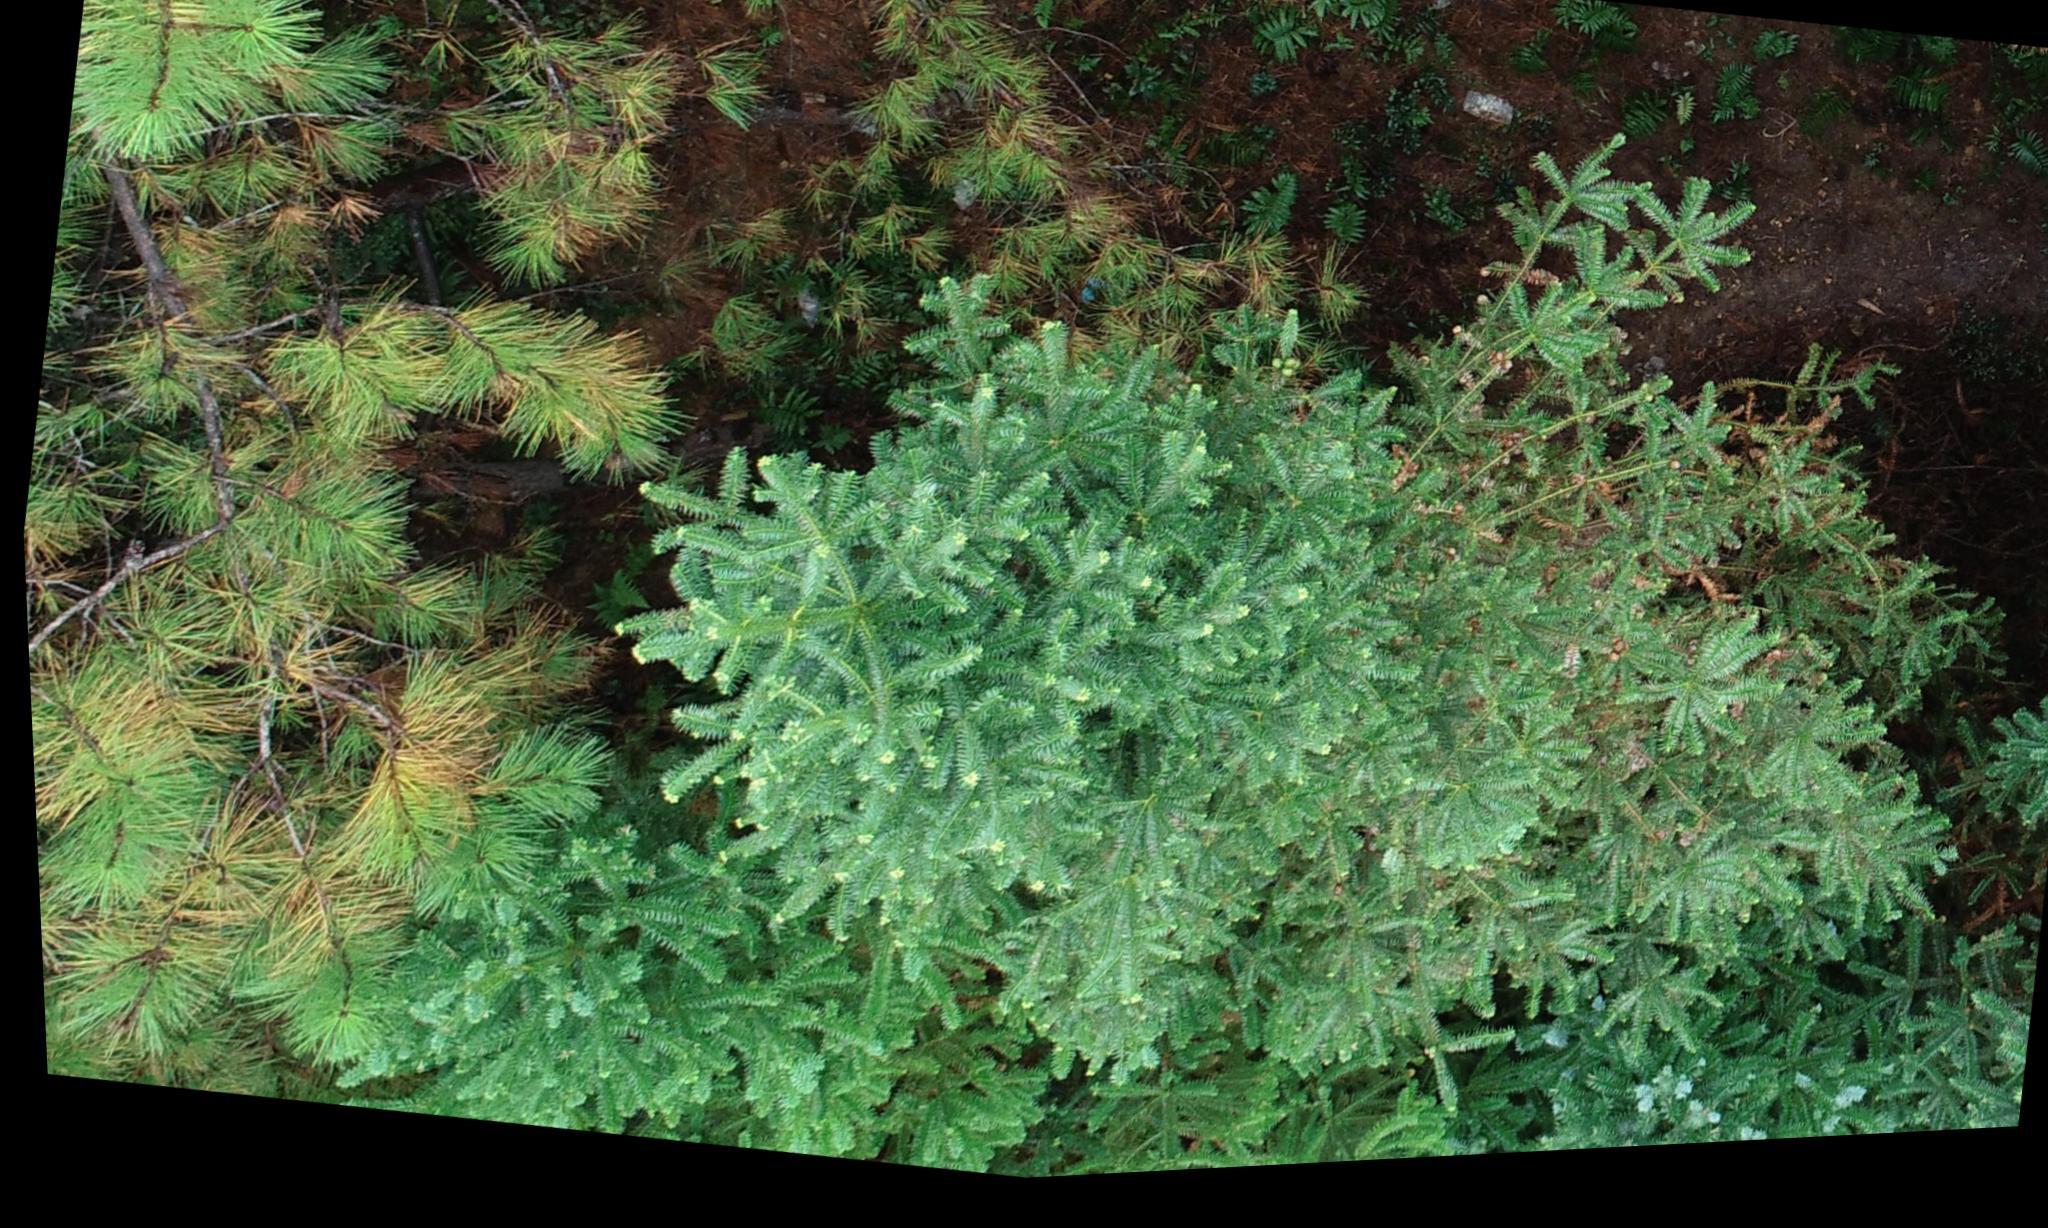light: (7, 189, 672, 1072)
